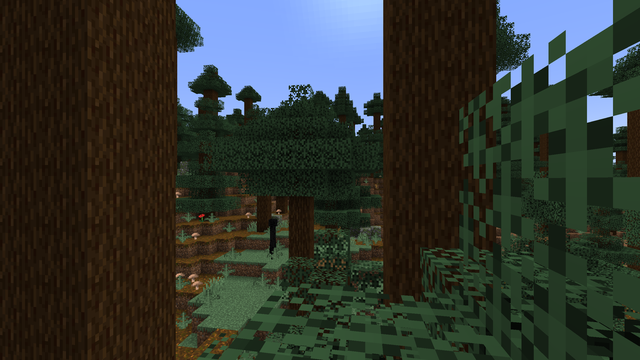endermens: (267, 217, 277, 259)
